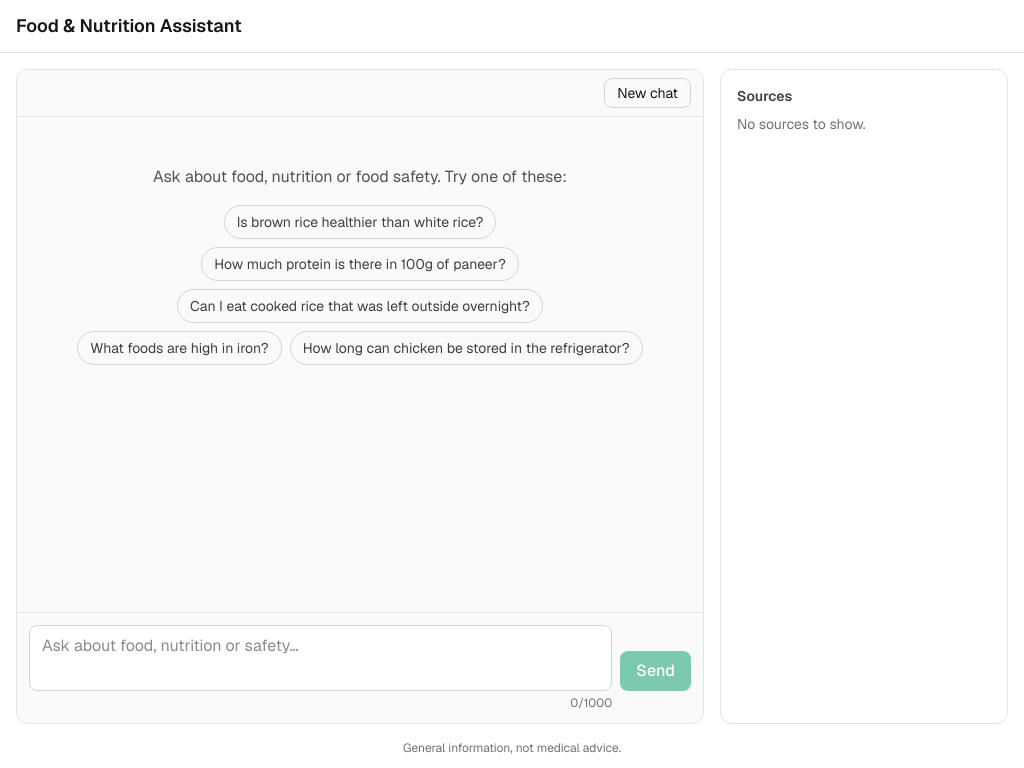
Test case: error responses show a bubble with the request_id
Type "Is brown rice healthier than white rice?" into the text box named "Your question" at (321, 658), box [29,625,612,691]
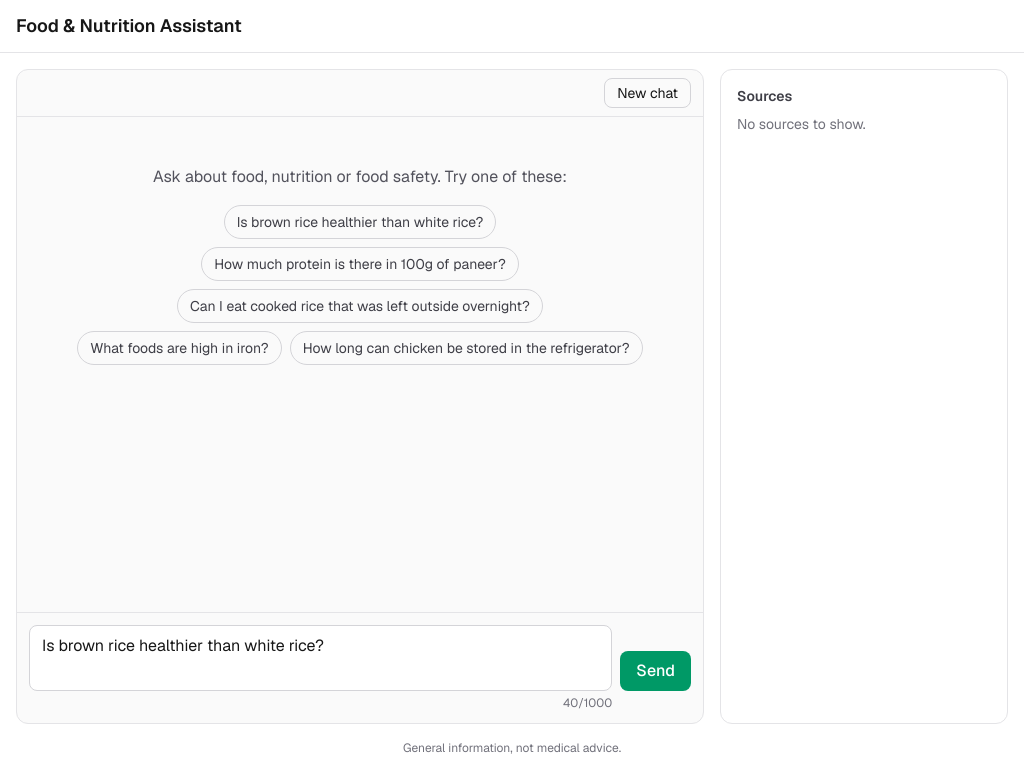
Press Enter in the text box named "Your question", box [29,625,612,691]
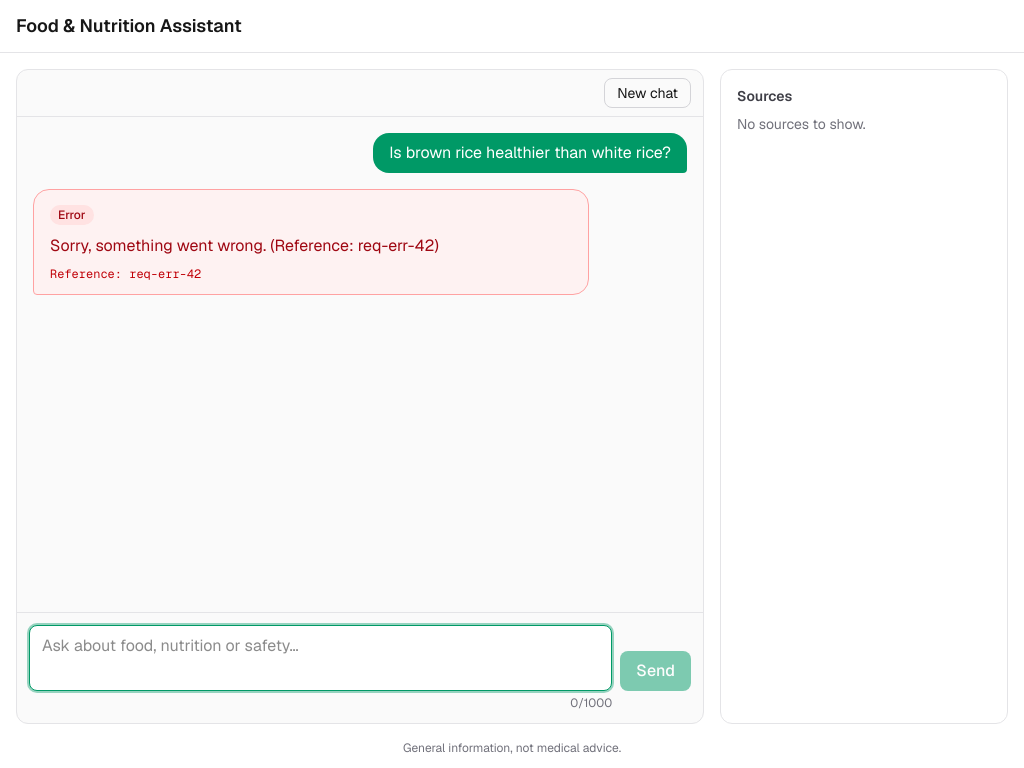
expect the text "Reference: req-err-42" is shown: met, box [50,266,201,282]
